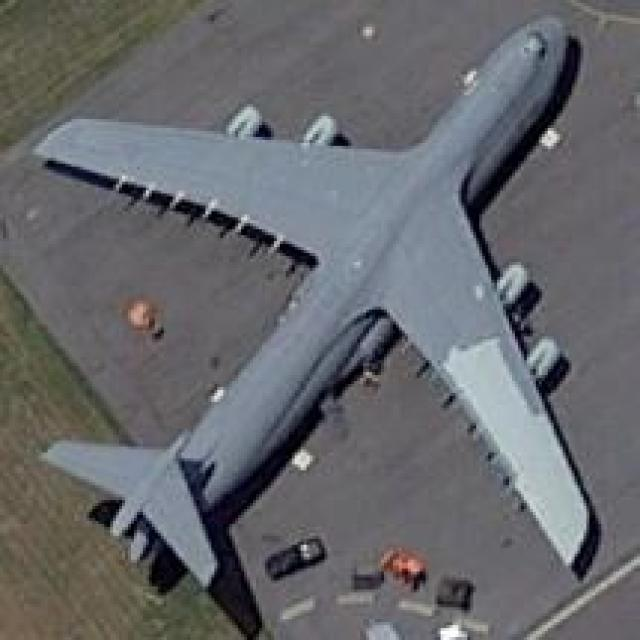C-5_TopDown: (0, 12, 604, 637)
